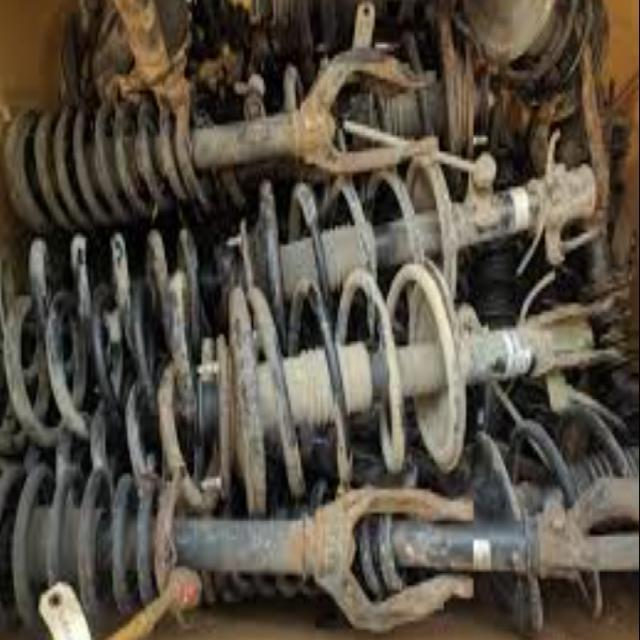shock absorber: (216, 260, 622, 522), (4, 67, 337, 234), (3, 463, 317, 633)
